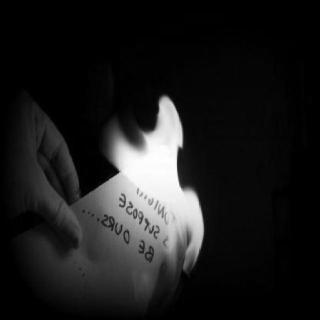Fire: (98, 94, 210, 280)
